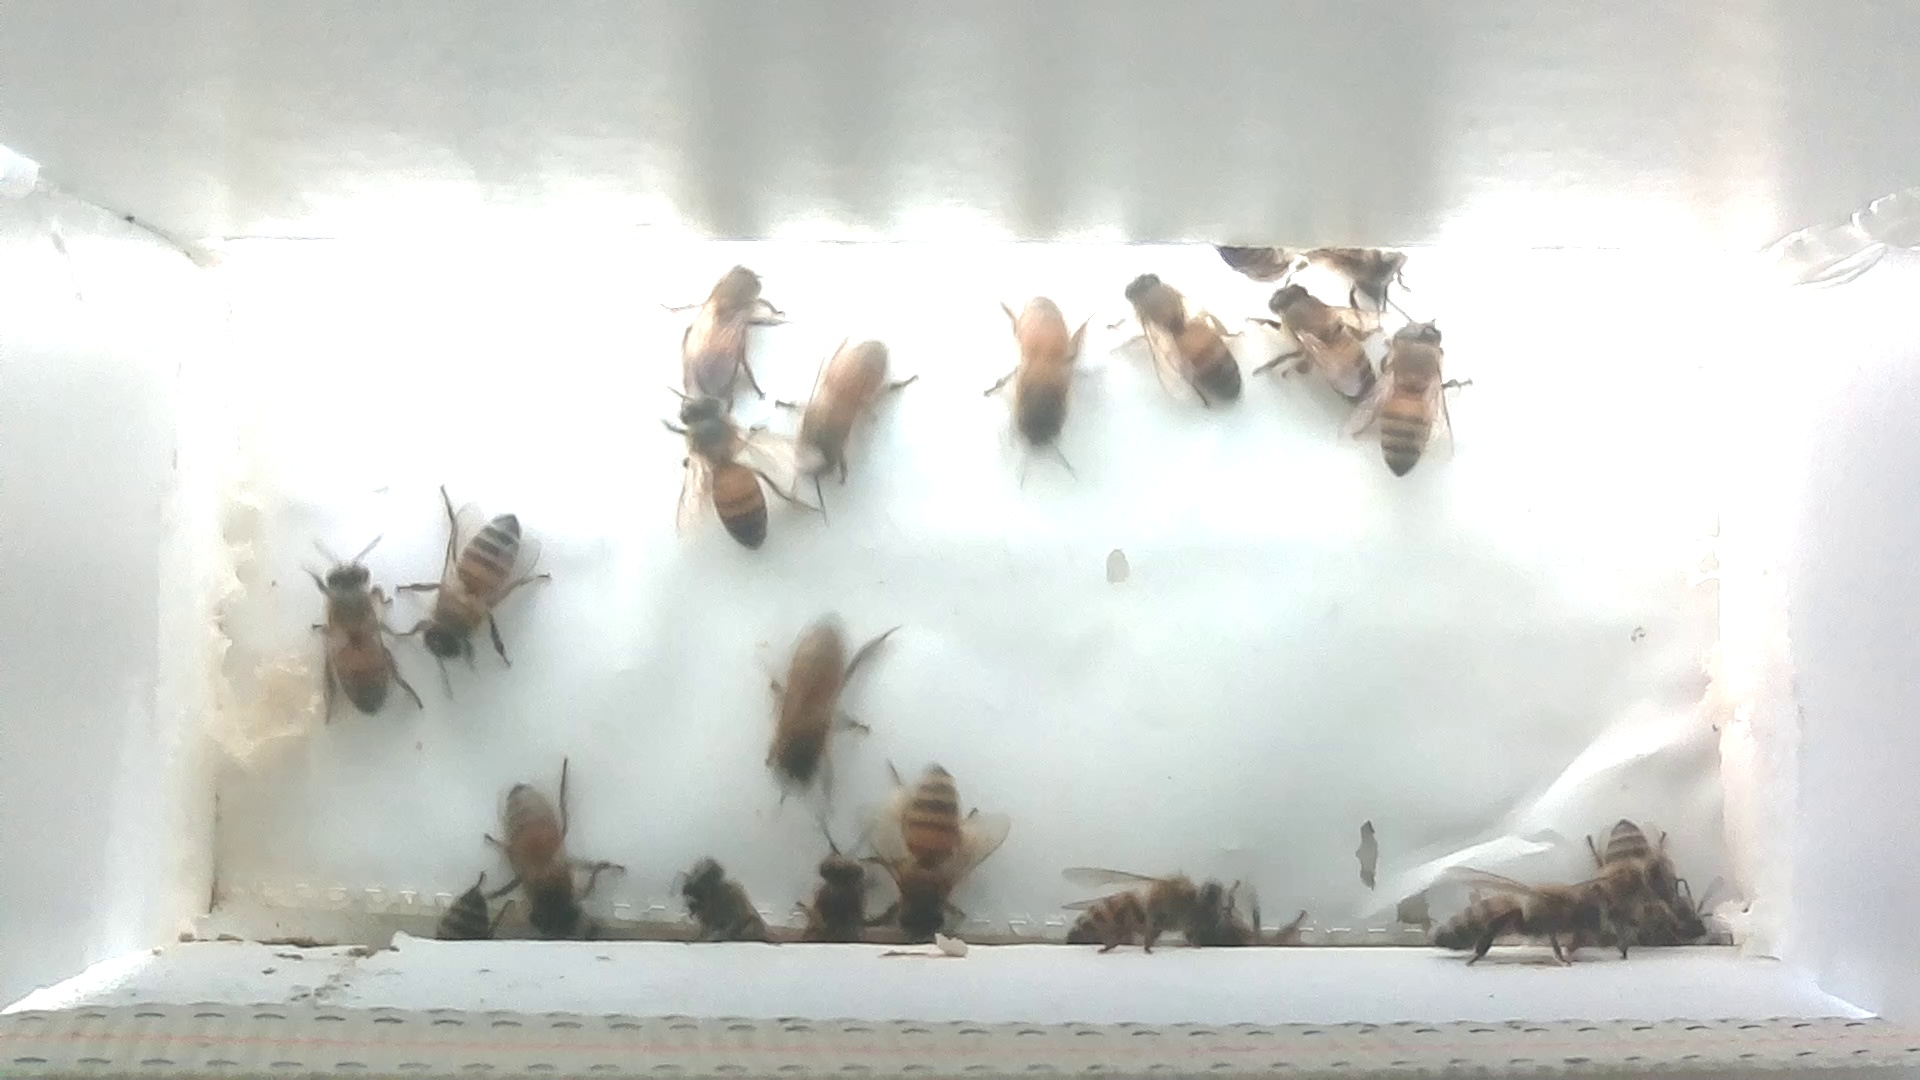bee: (738, 595, 895, 804), (405, 487, 560, 686), (659, 378, 819, 563), (473, 760, 628, 949), (872, 752, 1011, 960), (290, 539, 430, 731), (774, 323, 919, 484), (1356, 299, 1481, 477), (1054, 845, 1240, 964), (1424, 856, 1619, 968), (980, 284, 1091, 476), (1249, 262, 1385, 419), (1116, 268, 1250, 425), (658, 260, 781, 419), (781, 818, 887, 959), (1592, 814, 1696, 945), (670, 853, 778, 959), (425, 865, 510, 956), (1311, 236, 1416, 306), (1220, 240, 1298, 291)
